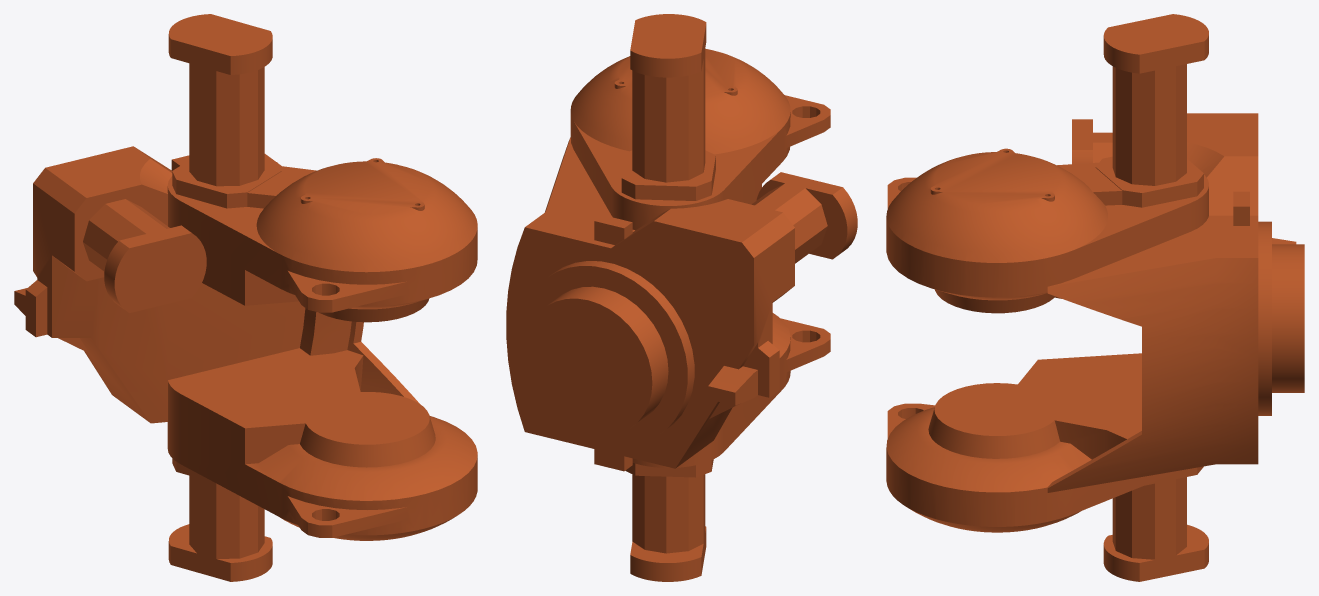
3 renders of one model, left to right at view 1: azimuth 30°, elevation 25°; view 2: azimuth 150°, elevation 25°; view 3: azimuth 270°, elevation 25°, orthographic.
Visible parts, largest first — view 1: Link_1; view 2: Link_1; view 3: Link_1.
Boxes of the visible parts, x1,y1,x2,y2 form: Link_1: [14, 14, 477, 581]; Link_1: [506, 14, 857, 581]; Link_1: [886, 14, 1304, 581].
Bounding box in the file's own units: 0.5157 × 0.833 × 0.5987.
